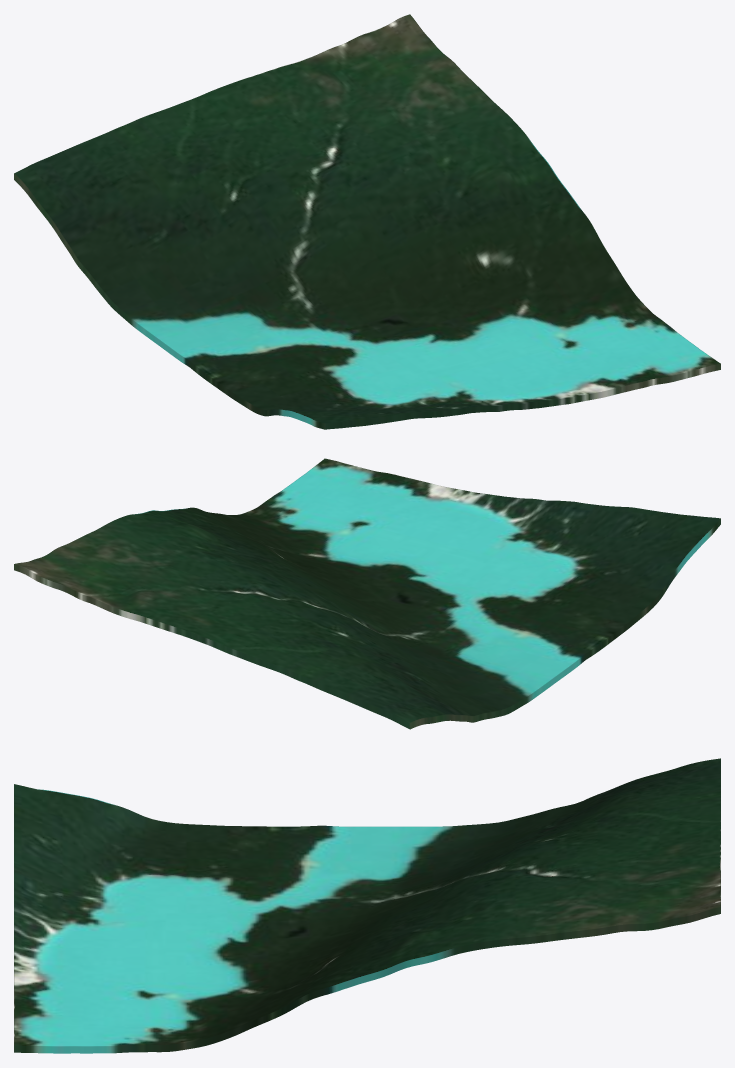
3 renders of one model, top to bottom at view 1: azimuth 30°, elevation 25°; view 2: azimuth 150°, elevation 25°; view 3: azimuth 270°, elevation 25°, orthographic. The views are drawn at different scales.
Visible parts, largest first — view 1: tile; view 2: tile; view 3: tile.
Part boxes in pixels (x1,y1,x2,y2): tile: (14, 14, 720, 429); tile: (14, 458, 720, 729); tile: (14, 758, 720, 1053).
Size of the model in its own units: 2025 by 630 by 2752.
1 material, 1 textured.
